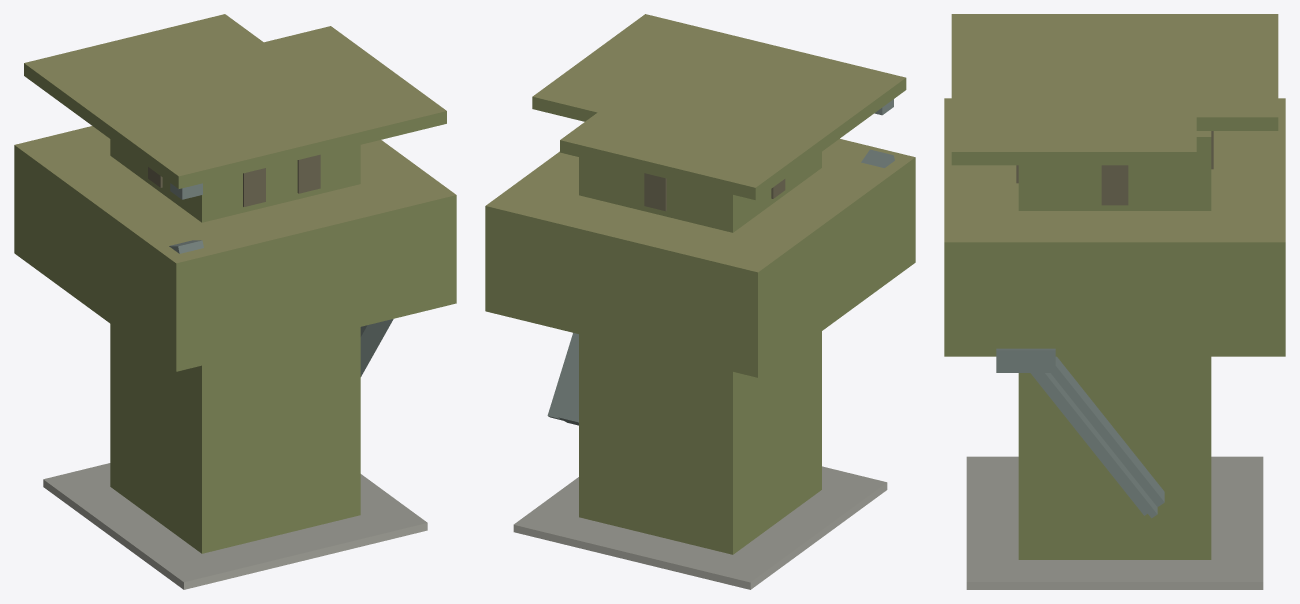
Rendered from SM_TorretaVigia_v3_LOD1.fbx.
3 renders of one model, left to right at view 1: azimuth 30°, elevation 25°; view 2: azimuth 150°, elevation 25°; view 3: azimuth 270°, elevation 25°, orthographic. The views are drawn at different scales.
Parts seen in each view (by area): view 1: SM_torreta_vigia_v3_LOD1; view 2: SM_torreta_vigia_v3_LOD1; view 3: SM_torreta_vigia_v3_LOD1.
Boxes of the visible parts, <box> form: SM_torreta_vigia_v3_LOD1: <box>14,14,456,589</box>; SM_torreta_vigia_v3_LOD1: <box>485,14,915,589</box>; SM_torreta_vigia_v3_LOD1: <box>944,14,1285,589</box>.
Bounding box in the file's own units: 4.65 × 6.61 × 4.6.
